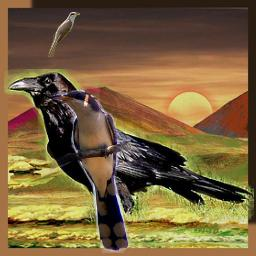Crow: (4, 69, 254, 222)
Cuckoo: (50, 90, 131, 253), (47, 12, 80, 57)
